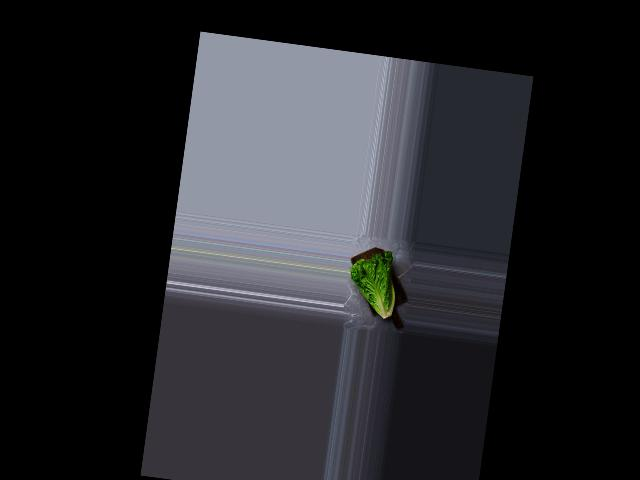lettuce: (344, 246, 408, 323)
